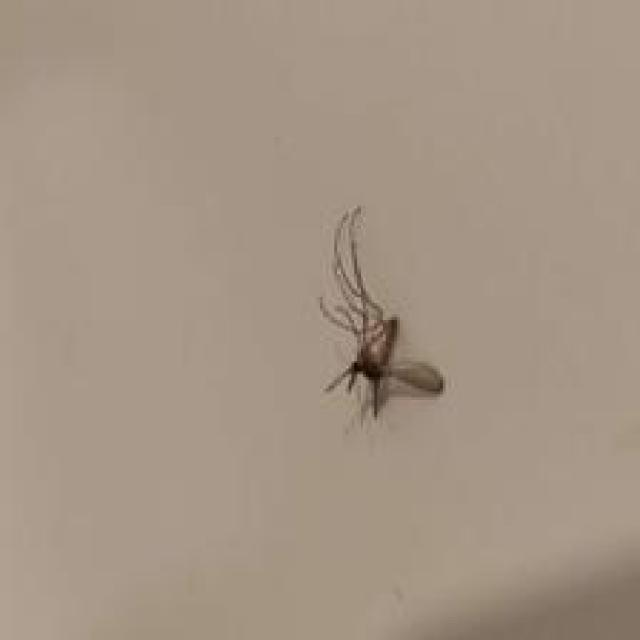Culex: (317, 204, 446, 430)
